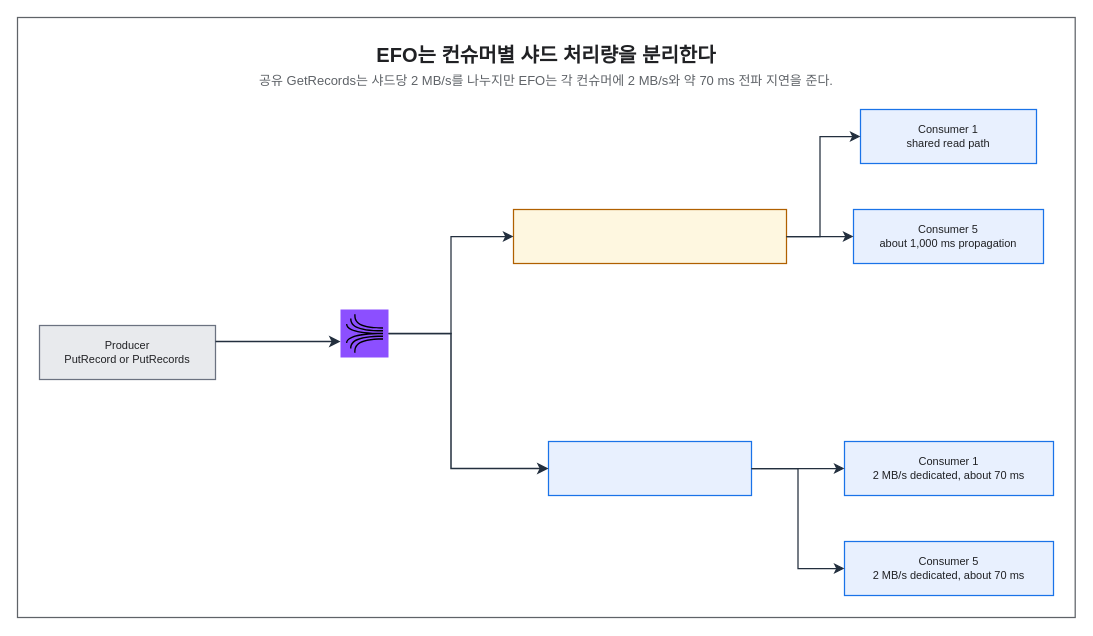
The diagram is 1093 pixels wide and 636 high, and some of its shapes have lost their labels. Here are the shapes that lost their labels. From the top down, the box of each, then its label:
(512, 208, 787, 264): Shared throughput GetRecords pull, 2 MB/s per shard total
(340, 309, 388, 357): Kinesis Data Stream shard is the capacity unit
(547, 440, 752, 496): Enhanced fan-out SubscribeToShard HTTP/2 push
